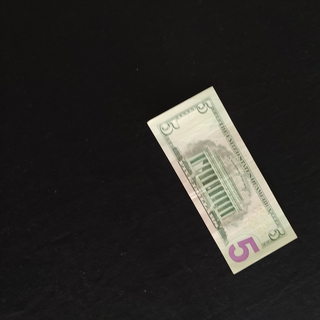5USDBack: (146, 85, 297, 275)
